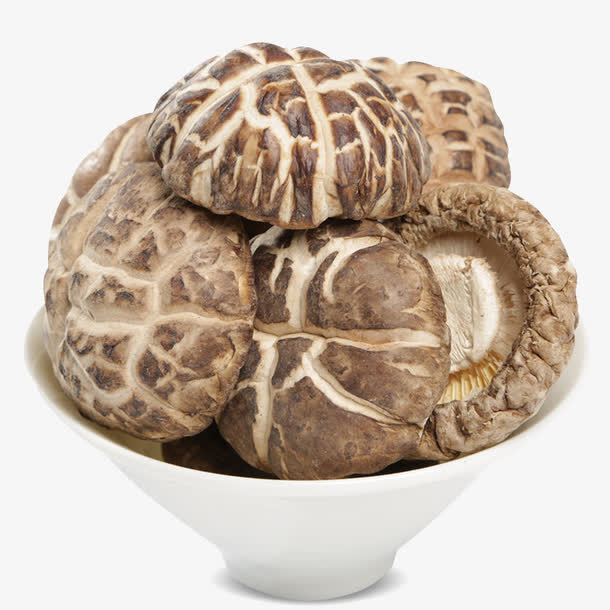H: (160, 42, 421, 217), (48, 181, 217, 442), (240, 231, 425, 466), (377, 58, 526, 176)
